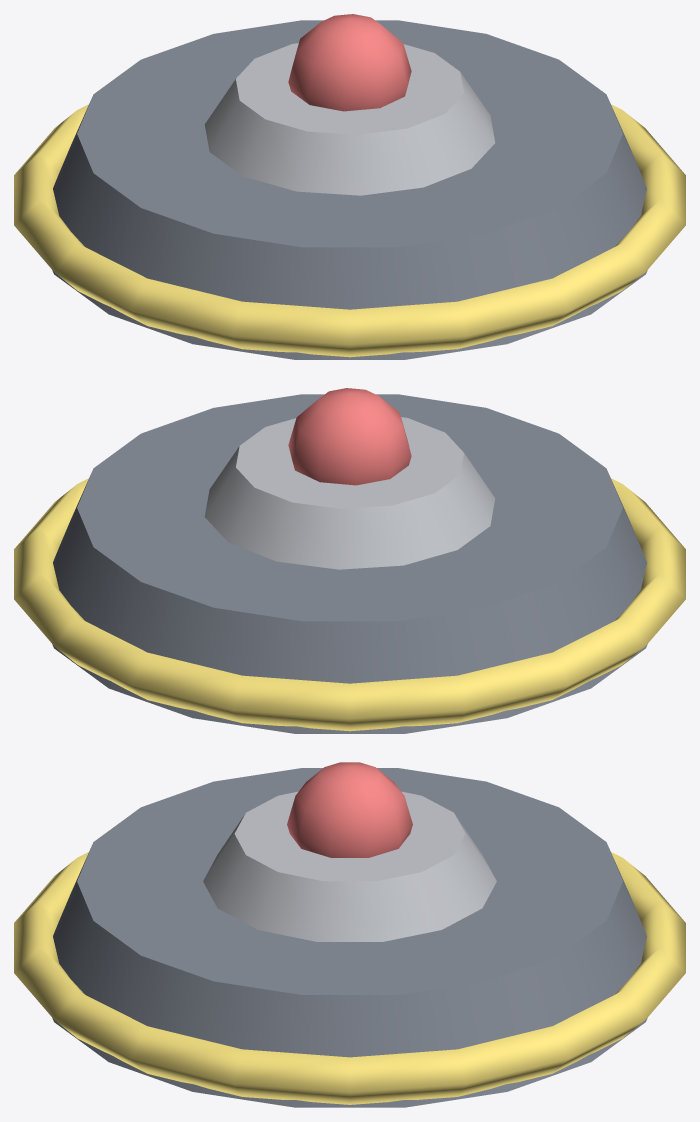
File: Mine.fbx
The picture shows the model from 3 angles, top to bottom: view 1: azimuth 30°, elevation 25°; view 2: azimuth 150°, elevation 25°; view 3: azimuth 270°, elevation 25°; orthographic projection.
Visible parts, largest first — view 1: mine; view 2: mine; view 3: mine.
Boxes of the visible parts, x1,y1,x2,y2 form: mine: (14,14,685,359); mine: (14,388,685,733); mine: (14,762,685,1107).
Size of the model in its own units: 0.65 by 0.22 by 0.6401.
